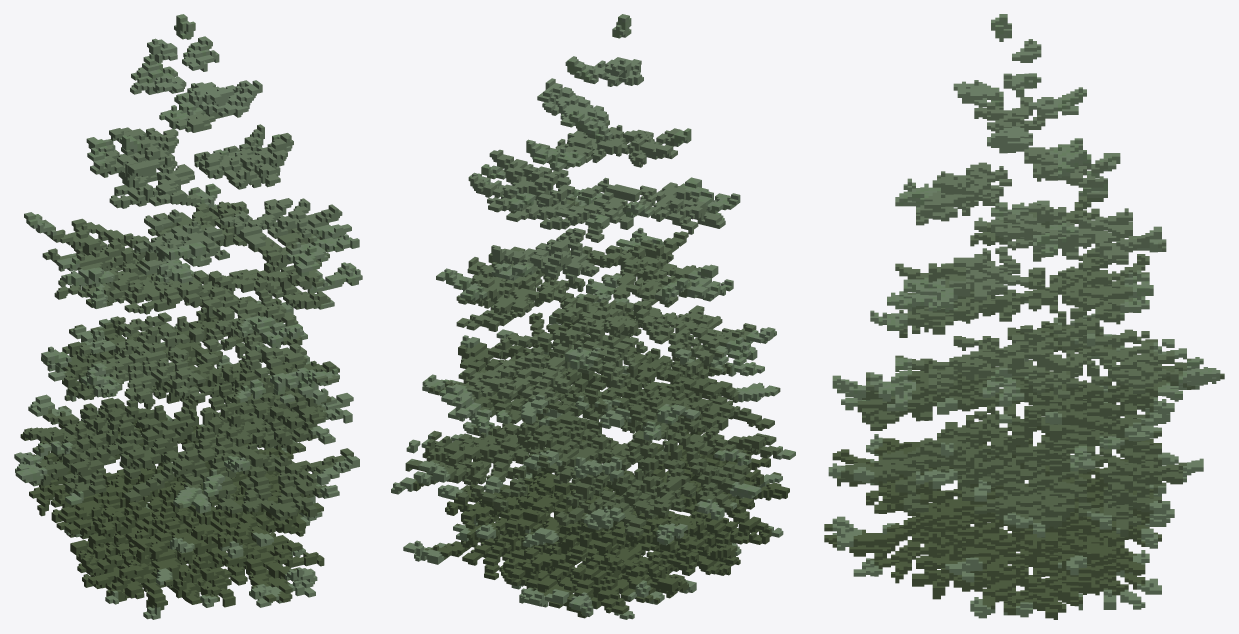
File: 3_voxtree_leaves.fbx
3 renders of one model, left to right at view 1: azimuth 30°, elevation 25°; view 2: azimuth 150°, elevation 25°; view 3: azimuth 270°, elevation 25°, orthographic.
Parts seen in each view (by area): view 1: blender_leaves.002; view 2: blender_leaves.002; view 3: blender_leaves.002.
Part boxes in pixels (bbox=[...]): blender_leaves.002: bbox=[14, 14, 362, 619]; blender_leaves.002: bbox=[391, 14, 795, 619]; blender_leaves.002: bbox=[824, 14, 1224, 619].
Size of the model in its own units: 900 by 1480 by 960.
Materials: 1 (1 with a texture image).
